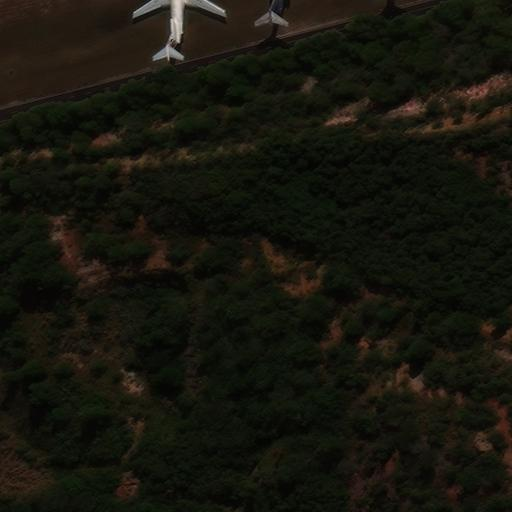Medium Civil Transport: (144, 0, 216, 57)
